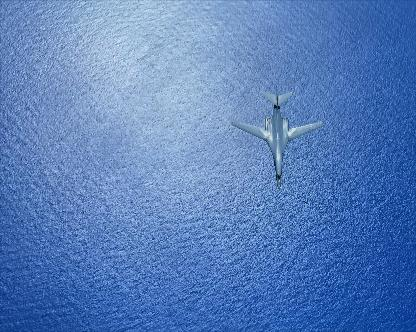AV8B: (230, 90, 322, 190)
